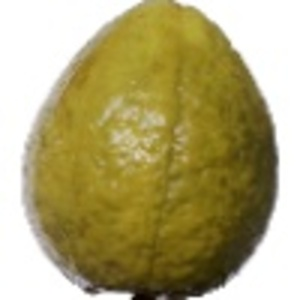goiaba: (13, 1, 279, 298)
